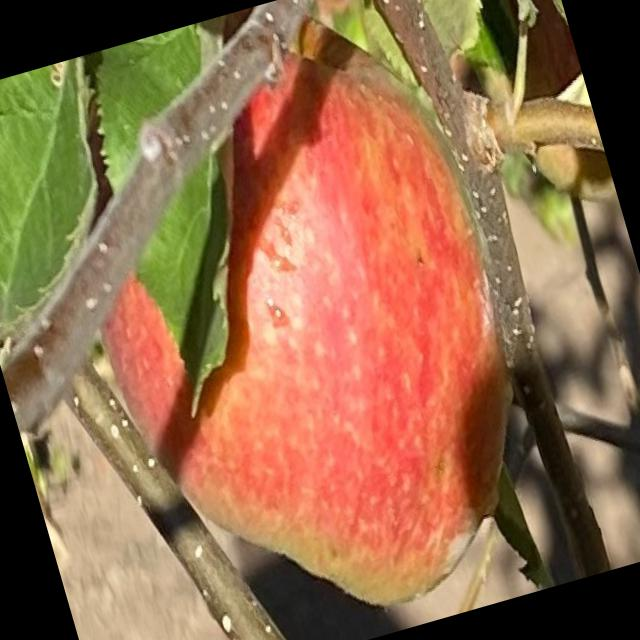Apples: (26, 0, 570, 639)
